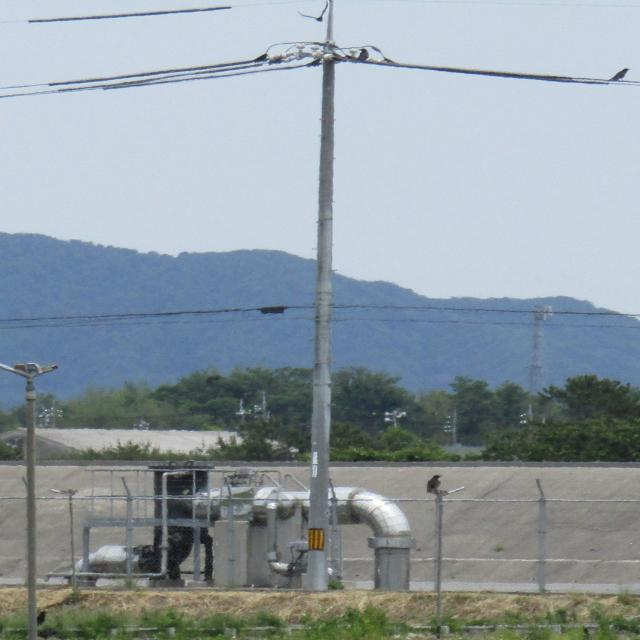pole: (268, 1, 398, 592)
